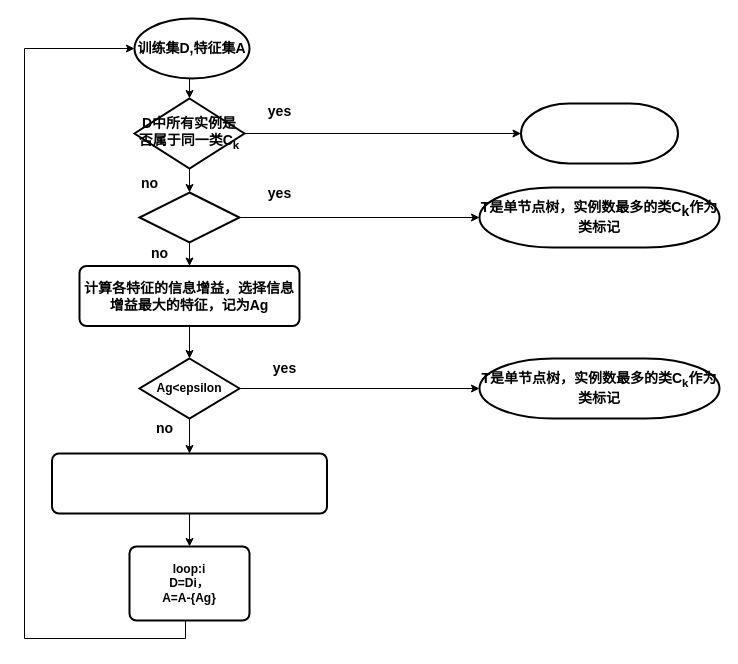
Image size: 738x664. Some labels were removed from this diagram. The shapes that lost their labels are listed below. From the top down, each one's box as (x1, y1, x2, y2) in pixels, then its label:
(520, 102, 678, 164): T是单节点树，并返回T
(138, 191, 240, 243): A=None?
(50, 452, 328, 514): 根据特征Ag将D分割为若干非空子集Di,Di中实例数最多的的类作为标记，构建子节点
